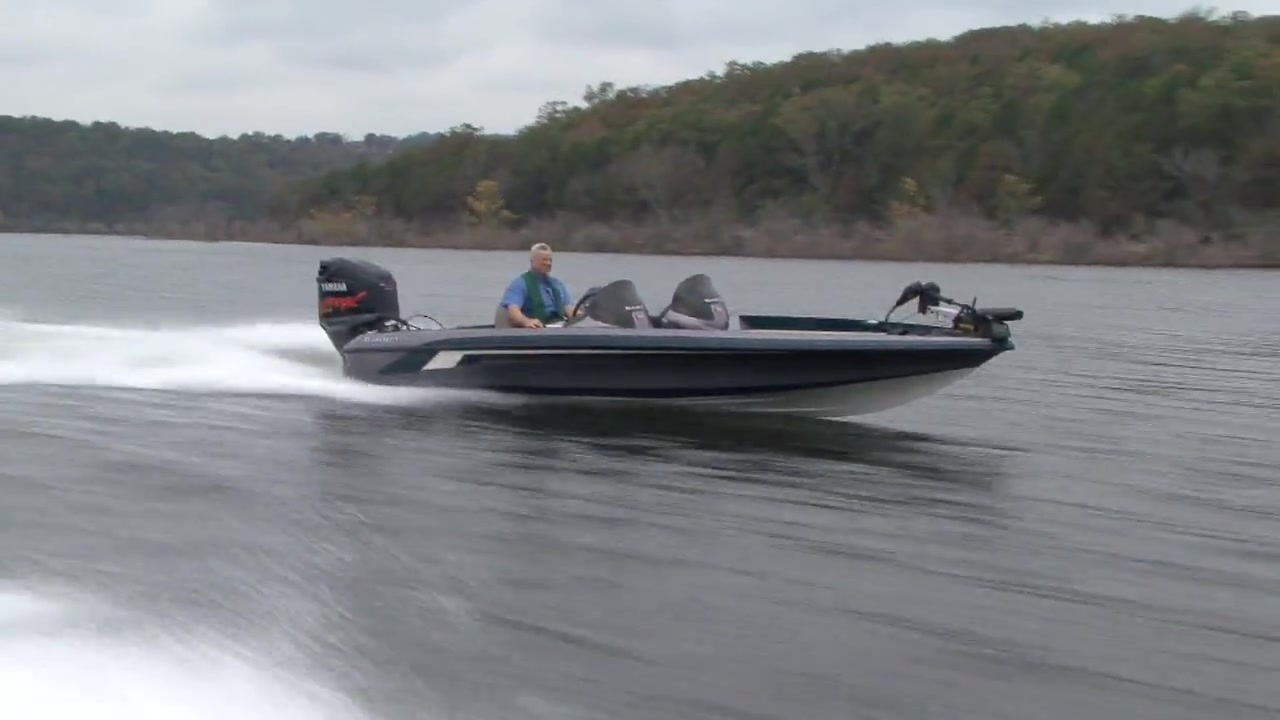boat: (312, 252, 1024, 406)
